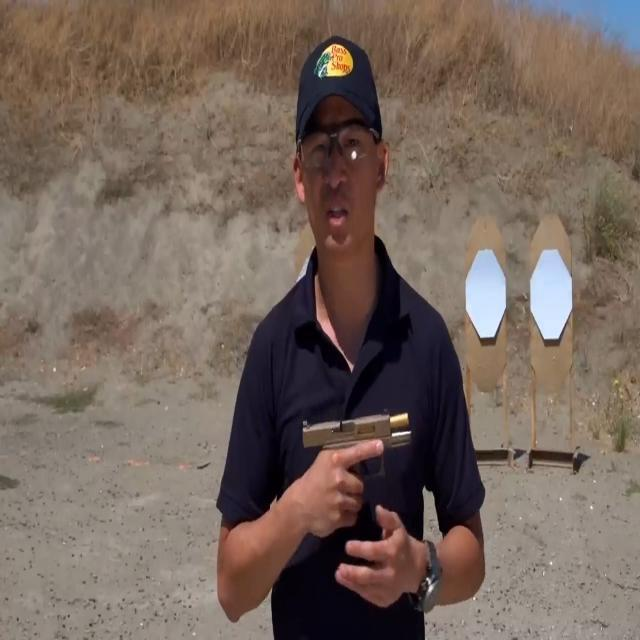gun: (300, 408, 414, 478)
